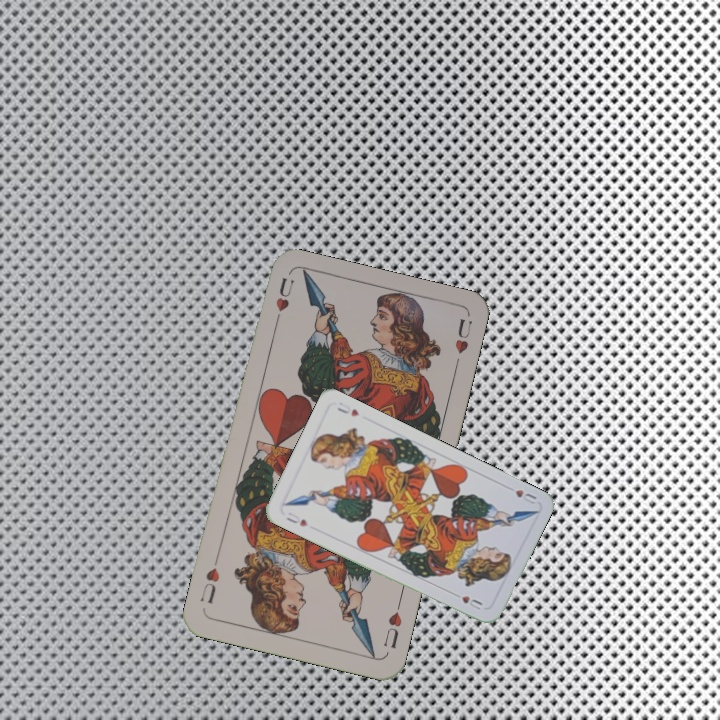HU: (270, 273, 296, 330), (379, 597, 405, 652), (511, 485, 539, 507), (282, 508, 310, 529)
